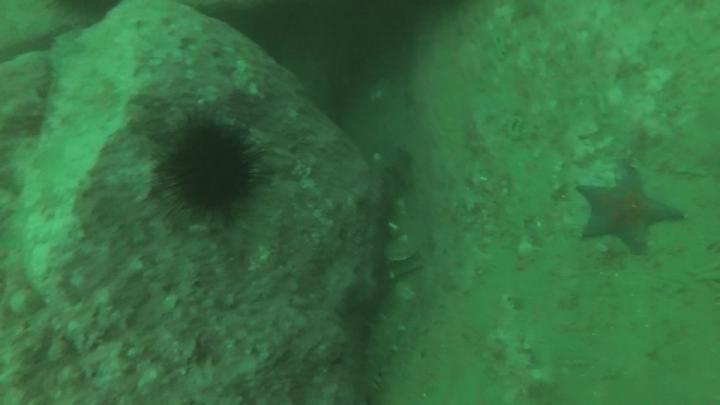echinus: (168, 132, 253, 215)
holothurian: (367, 311, 405, 388)
starfish: (579, 169, 683, 256)
